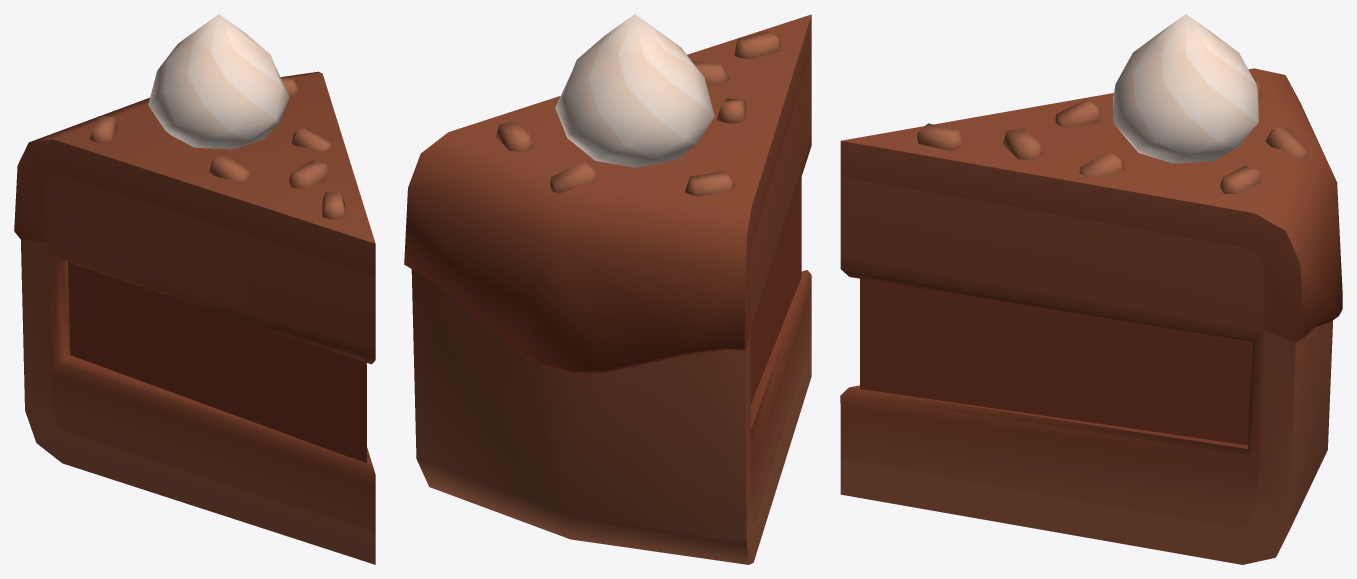
File: cake-chocolate-slice.glb
3 renders of one model, left to right at view 1: azimuth 30°, elevation 25°; view 2: azimuth 150°, elevation 25°; view 3: azimuth 270°, elevation 25°, orthographic. The views are drawn at different scales.
Parts seen in each view (by area): view 1: cake_chocolate_slice; view 2: cake_chocolate_slice; view 3: cake_chocolate_slice.
Boxes of the visible parts, bbox=[...] form: cake_chocolate_slice: bbox=[14, 14, 375, 564]; cake_chocolate_slice: bbox=[404, 14, 811, 564]; cake_chocolate_slice: bbox=[840, 14, 1342, 564].
Size of the model in its own units: 0.4668 by 0.6442 by 0.6102.
Materials: 1 (1 with a texture image).
